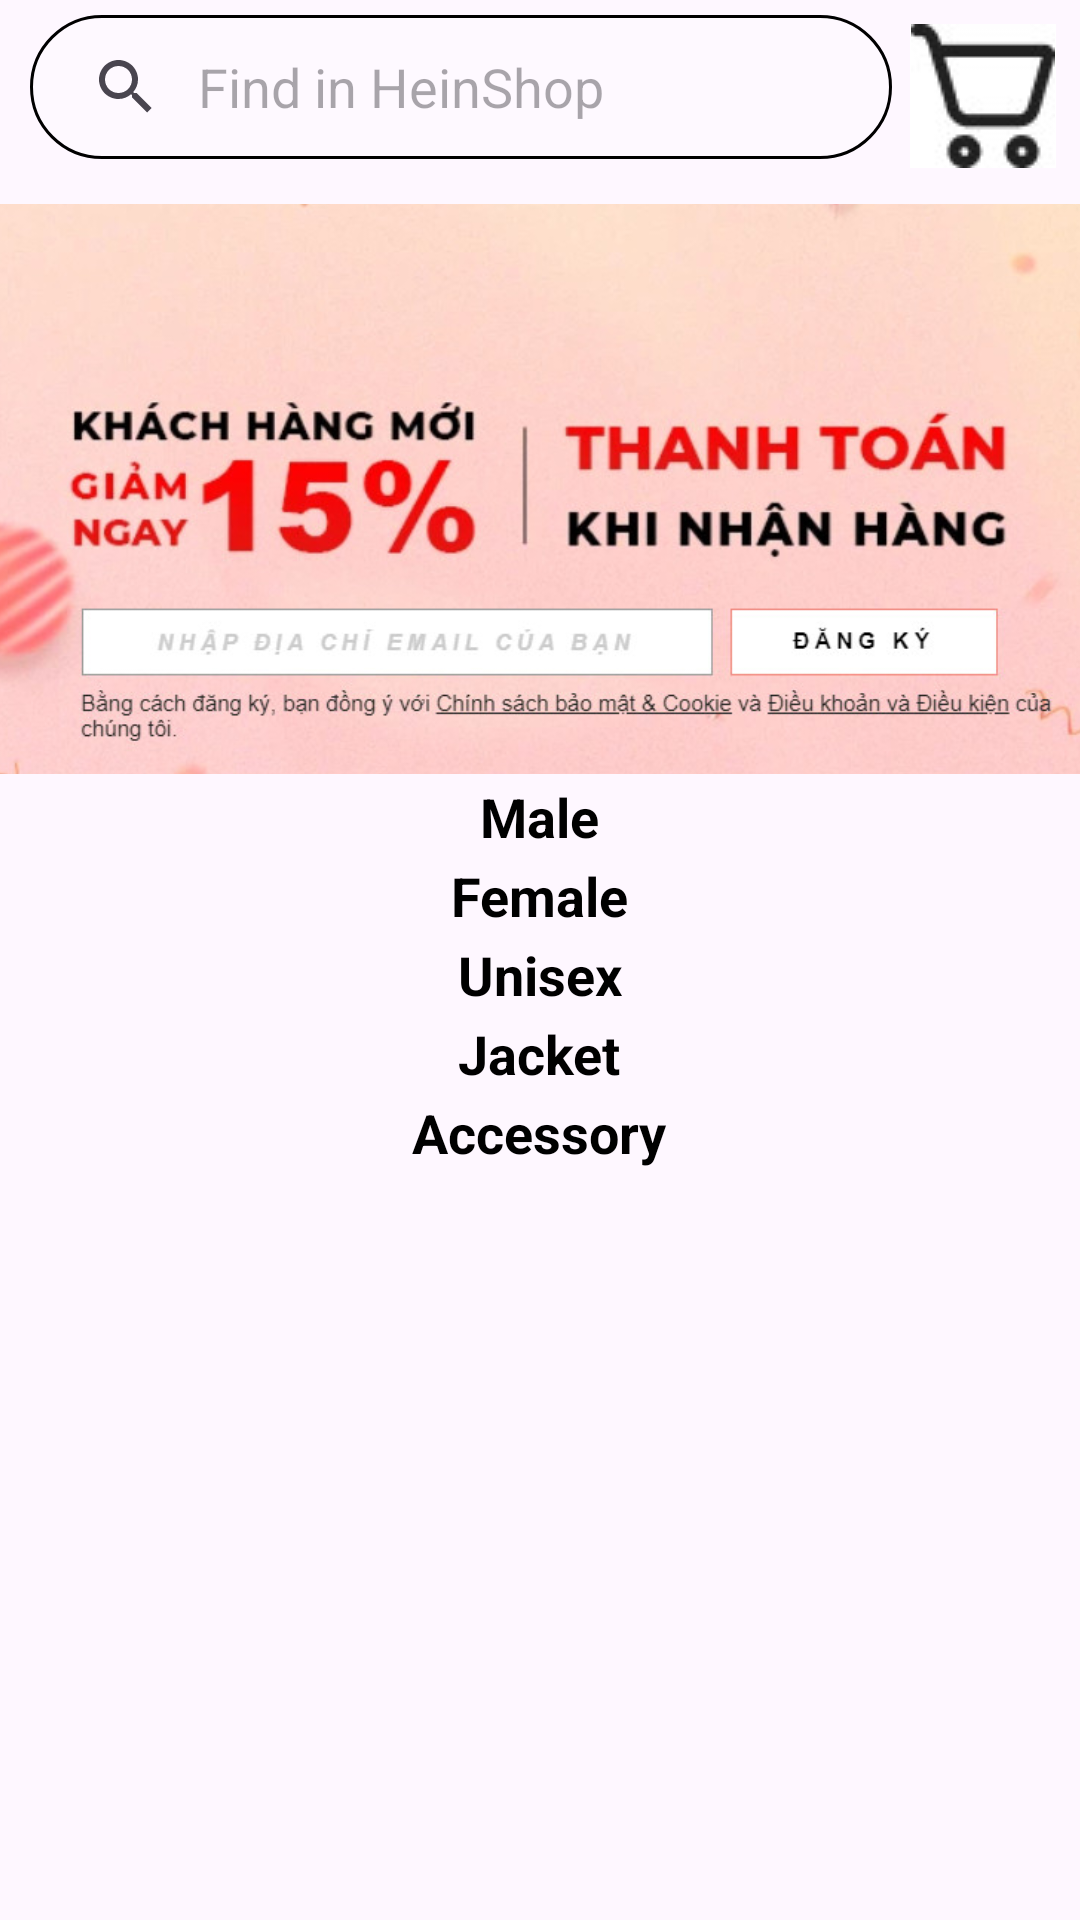

Named icons in this screenshot (1080px x 1920px) and their bounding boxes, bbox=[x1, y1, x2, y2]:
cart: bbox=[911, 24, 1055, 168]
